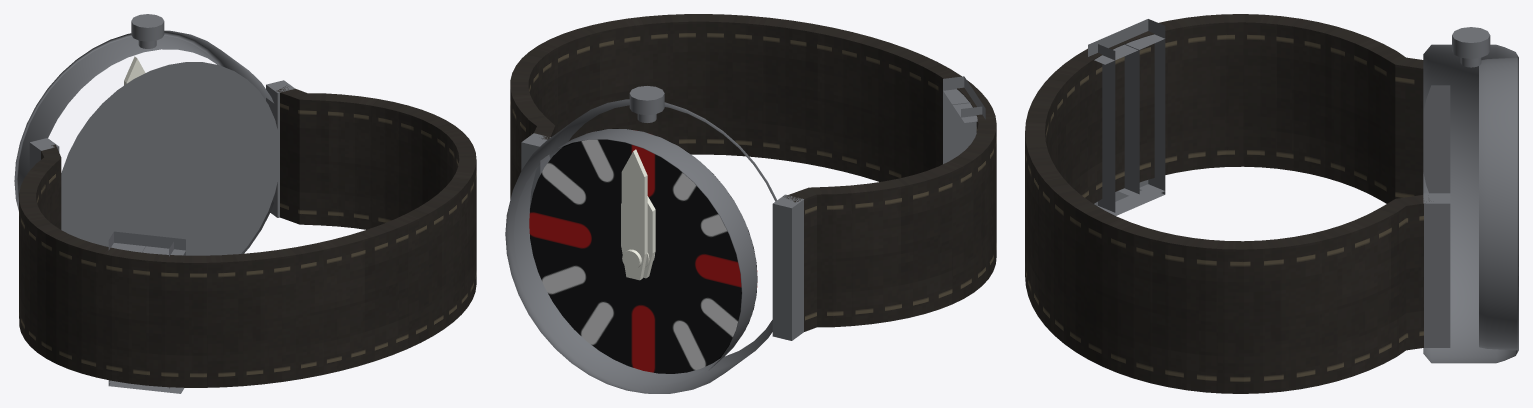
Rendered from watch.glb.
3 views of the same model, side by side, from view 1: azimuth 30°, elevation 25°; view 2: azimuth 150°, elevation 25°; view 3: azimuth 270°, elevation 25° (orthographic). The views are drawn at different scales.
Visible parts, largest first — view 1: Strap, Case; view 2: Strap, Dial, Case, MinuteHand, HourHand; view 3: Strap, Case.
Part boxes in pixels (x1,y1,x2,y2): Strap: (19, 85, 476, 393); Case: (14, 14, 295, 255); Strap: (510, 14, 996, 331); Dial: (529, 128, 757, 373); Case: (505, 86, 803, 393); MinuteHand: (621, 149, 647, 280); HourHand: (621, 196, 655, 278); Strap: (1025, 14, 1429, 393); Case: (1423, 27, 1518, 363).
Size of the model in its own units: 0.07 by 0.0434 by 0.062.
Materials: 5 (2 with a texture image).
